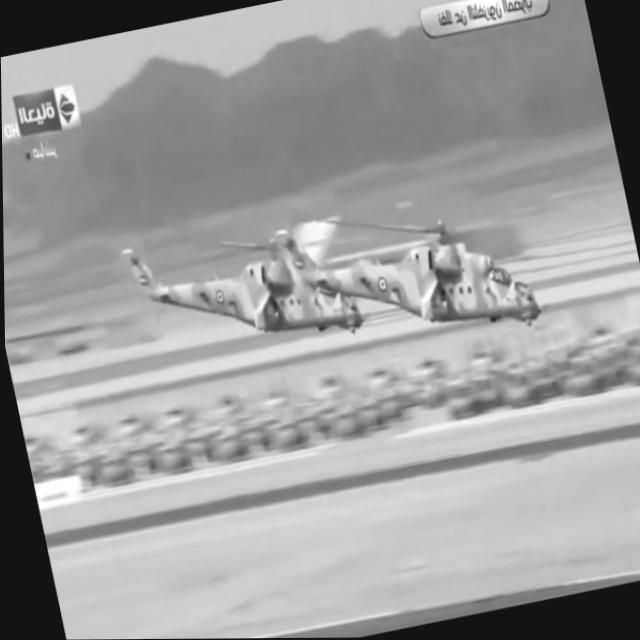helikopter: (323, 185, 542, 380)
